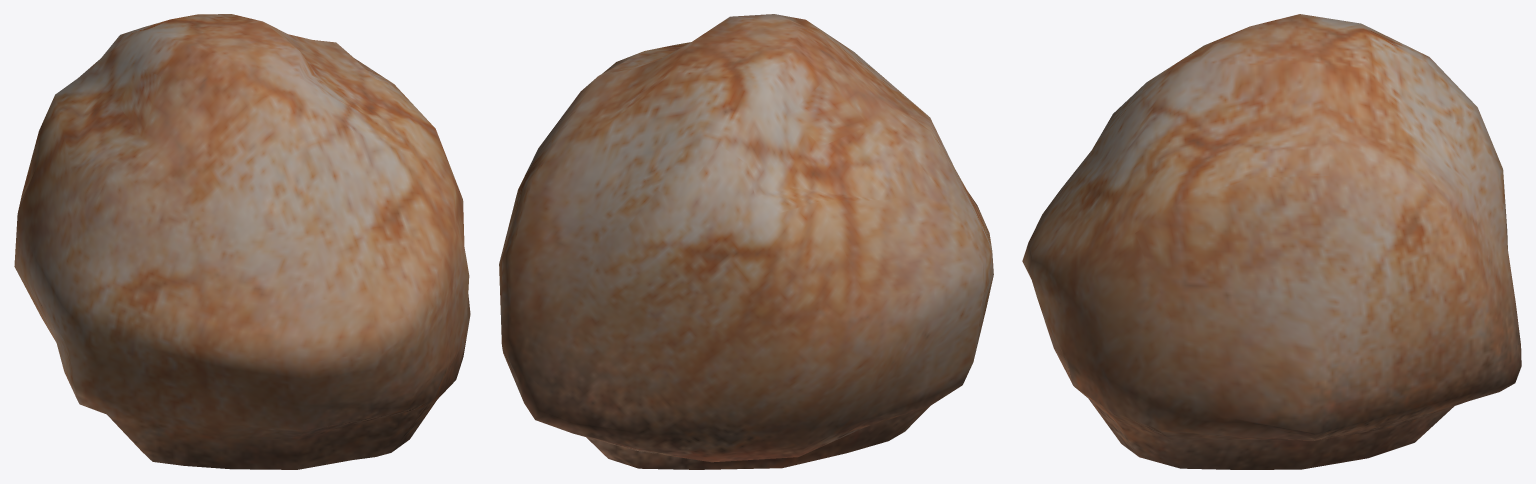
Rendered from rockSmaller01.fbx.
3 renders of one model, left to right at view 1: azimuth 30°, elevation 25°; view 2: azimuth 150°, elevation 25°; view 3: azimuth 270°, elevation 25°, orthographic. The views are drawn at different scales.
Visible parts, largest first — view 1: rockSmaller01; view 2: rockSmaller01; view 3: rockSmaller01.
Part boxes in pixels (bbox=[...]): rockSmaller01: bbox=[14, 14, 470, 469]; rockSmaller01: bbox=[499, 14, 993, 469]; rockSmaller01: bbox=[1022, 14, 1521, 469].
Size of the model in its own units: 0.0573 by 0.0497 by 0.0606.
1 material, 1 textured.
